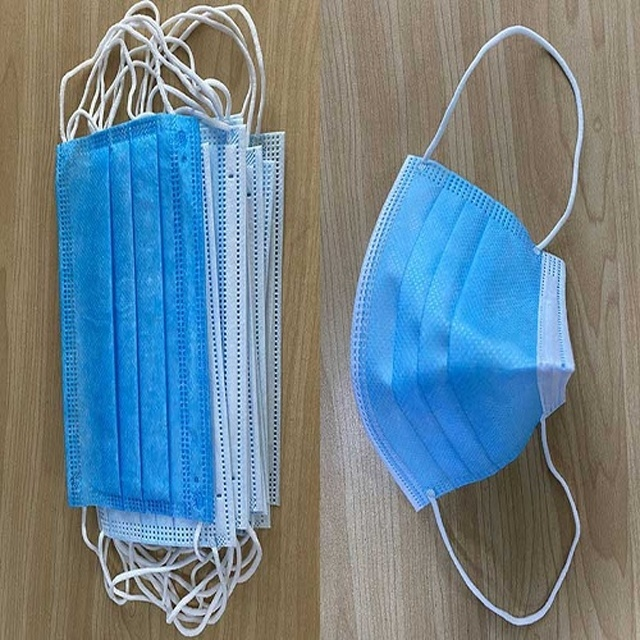mask: (350, 23, 596, 634), (55, 1, 289, 640)
